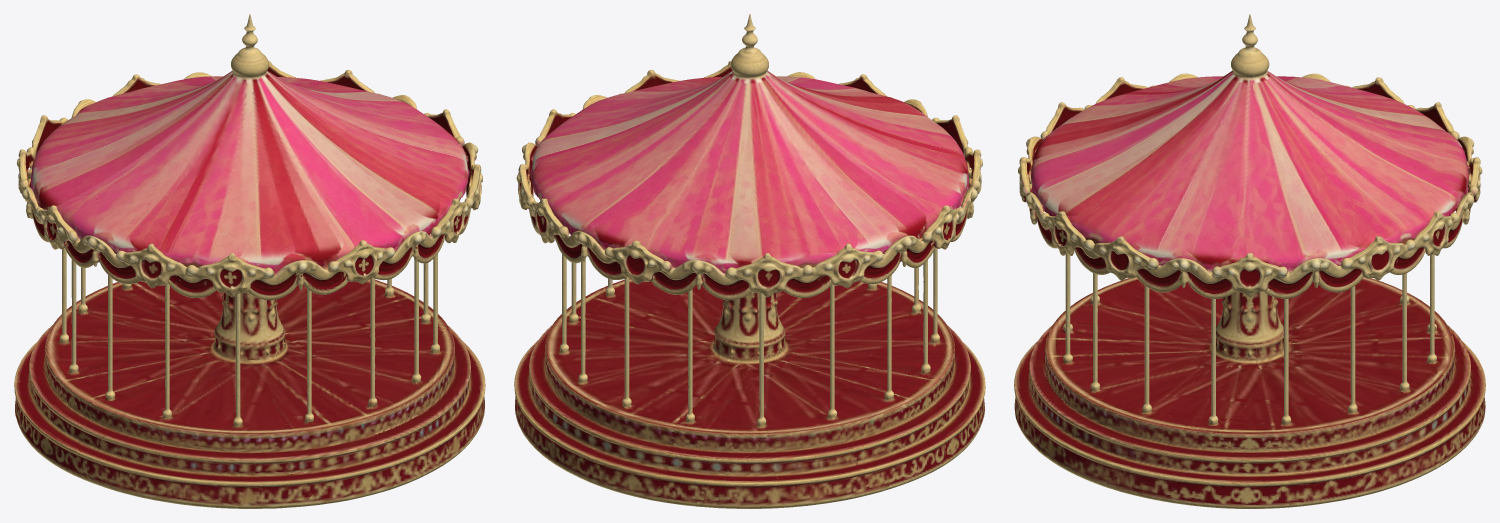
File: Meshy_AI_Crimson_Carousel_Eleg_1021074055_texture.fbx
The picture shows the model from 3 angles, left to right: view 1: azimuth 30°, elevation 25°; view 2: azimuth 150°, elevation 25°; view 3: azimuth 270°, elevation 25°; orthographic projection.
Parts seen in each view (by area): view 1: Mesh_0; view 2: Mesh_0; view 3: Mesh_0.
Part boxes in pixels (left/top/right/bottom): Mesh_0: left=14, top=14, right=485, bottom=508; Mesh_0: left=514, top=14, right=985, bottom=508; Mesh_0: left=1014, top=14, right=1485, bottom=508.
Size of the model in its own units: 190 by 176 by 190.
Materials: 1 (1 with a texture image).
